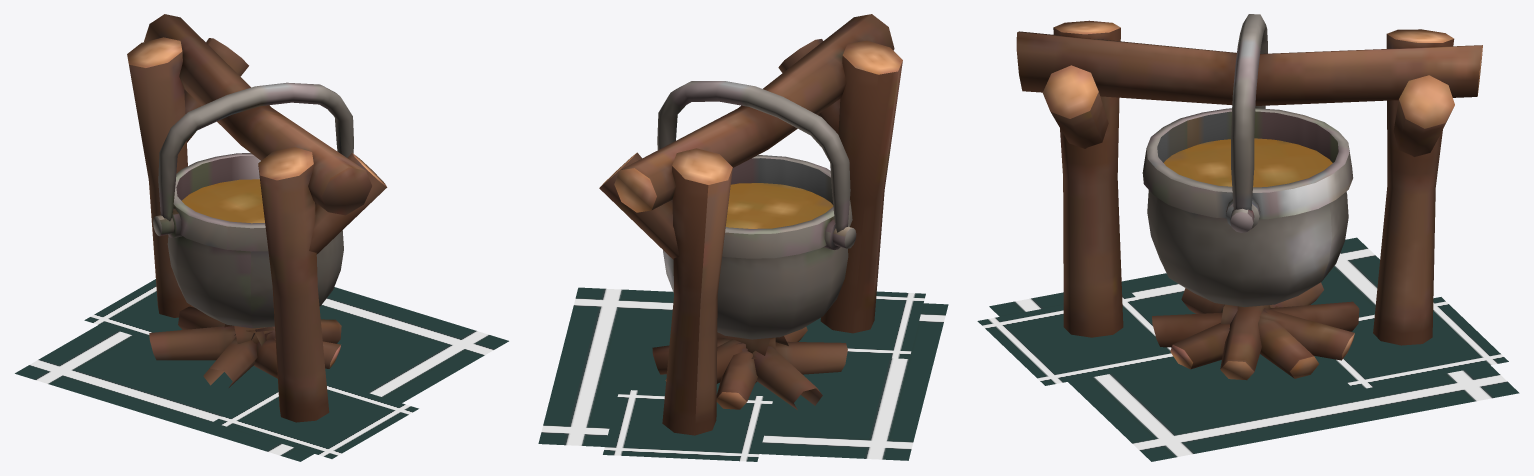
File: CoopCauldron.fbx
3 views of the same model, side by side, from view 1: azimuth 30°, elevation 25°; view 2: azimuth 150°, elevation 25°; view 3: azimuth 270°, elevation 25° (orthographic). The views are drawn at different scales.
Visible parts, largest first — view 1: Cauldron, CauldronShadow (3) (×2), CauldronShadow (4), Soup; view 2: Cauldron, CauldronShadow (3) (×2), CauldronShadow (4), Soup; view 3: Cauldron, CauldronShadow (3) (×2), CauldronShadow (4), Soup.
Boxes of the visible parts, x1,y1,x2,y2 form: Cauldron: (127, 14, 387, 422); CauldronShadow (3) (×2): (15, 279, 508, 461); CauldronShadow (4): (213, 380, 418, 458); Soup: (182, 179, 264, 223); Cauldron: (599, 14, 902, 435); CauldronShadow (3) (×2): (538, 287, 948, 461); CauldronShadow (4): (799, 291, 925, 358); Soup: (725, 183, 833, 228); Cauldron: (1016, 14, 1482, 380); CauldronShadow (3) (×2): (989, 237, 1519, 461); CauldronShadow (4): (977, 292, 1176, 385); Soup: (1164, 138, 1332, 187).
Bounding box in the file's own units: 2.24 × 1.44 × 2.29.
